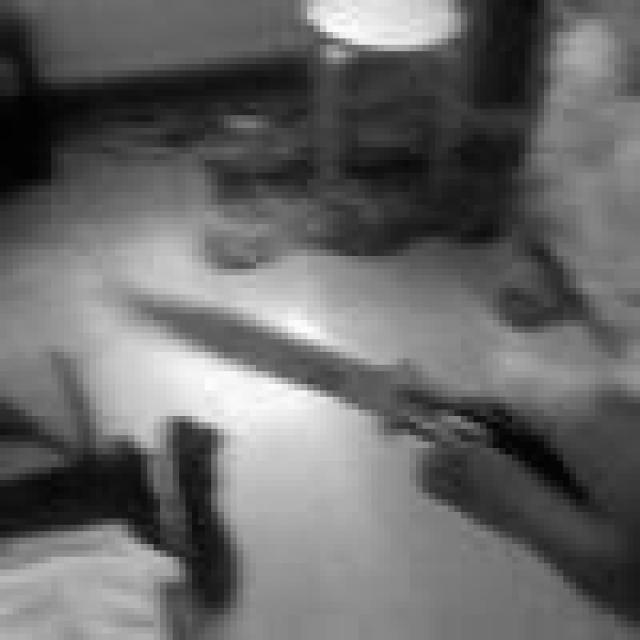knife: (118, 285, 573, 479)
